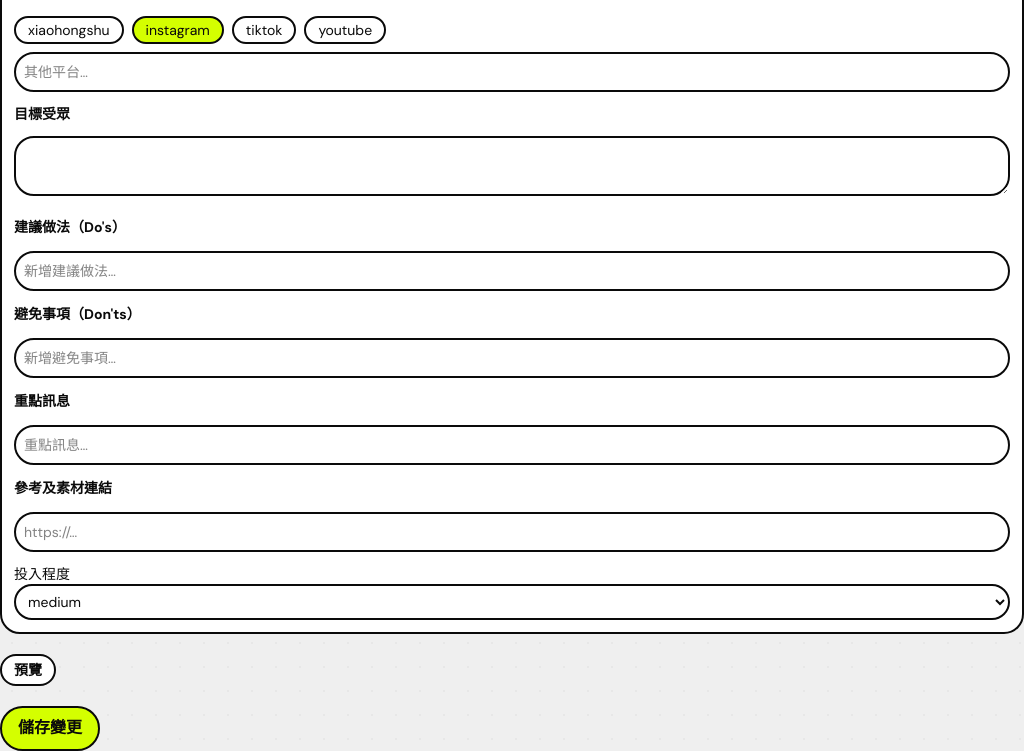
Test case: D12 policy fields through the real authoring form › previews the actual deliverable, checklist and publication guidance without inventing an approval date
The width and height of the screenshot is (1024, 751).
(page scrolled)
Click the button "預覽": (28, 670) [0,654,56,686]
(page scrolled)
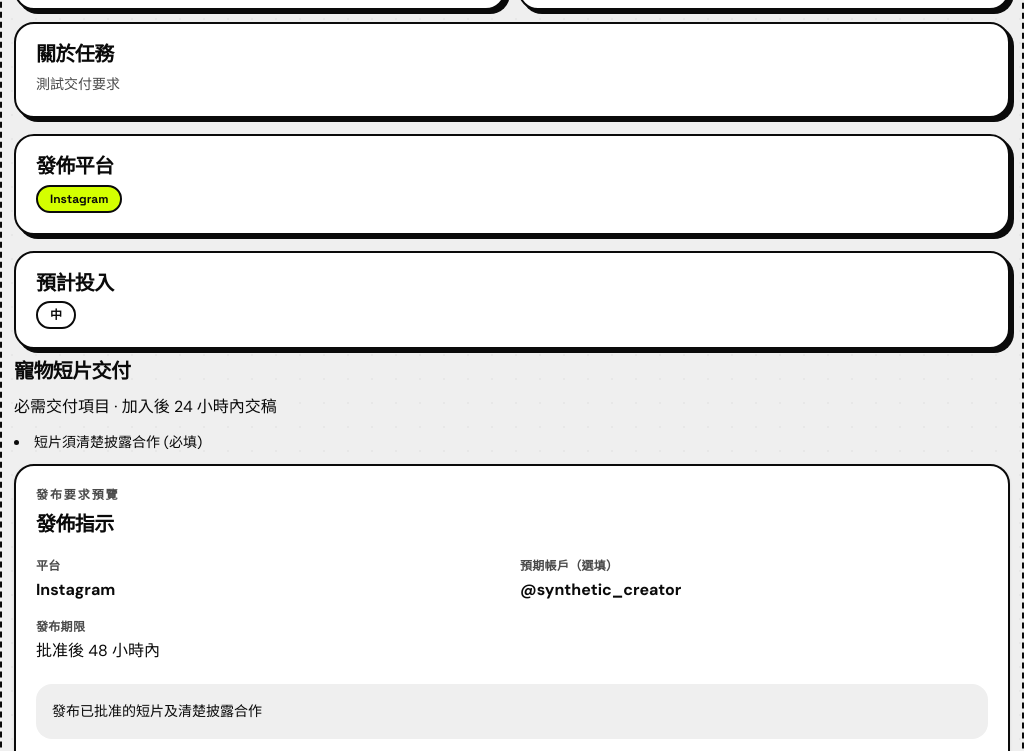
Expected: the element named "Creator 預覽" shows "寵物短片交付", [14,358,130,384]
Expected: the element named "Creator 預覽" shows "短片須清楚披露合作", [34,433,160,451]
Expected: the element named "Creator 預覽" shows "發布已批准的短片及清楚披露合作", [52,702,262,720]
